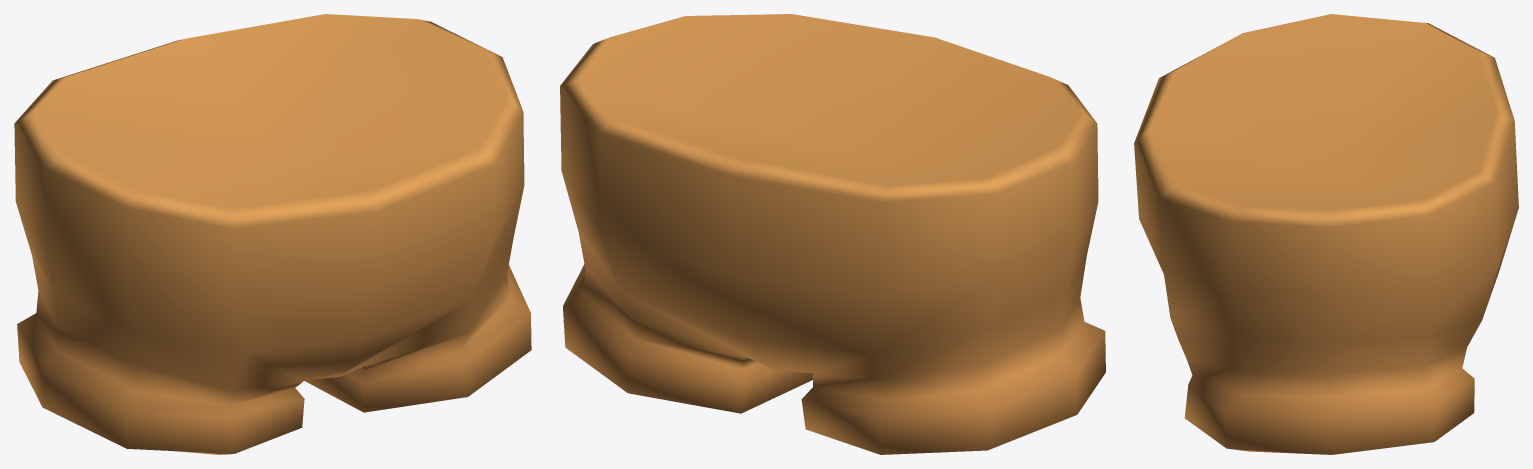
File: Bottom_43.fbx
3 renders of one model, left to right at view 1: azimuth 30°, elevation 25°; view 2: azimuth 150°, elevation 25°; view 3: azimuth 270°, elevation 25°, orthographic. The views are drawn at different scales.
Visible parts, largest first — view 1: Bottom_43; view 2: Bottom_43; view 3: Bottom_43.
Boxes of the visible parts, x1,y1,x2,y2 form: Bottom_43: (14,14,531,454); Bottom_43: (560,14,1105,454); Bottom_43: (1134,14,1518,454).
Bounding box in the file's own units: 38.94 × 22.89 × 29.68.
